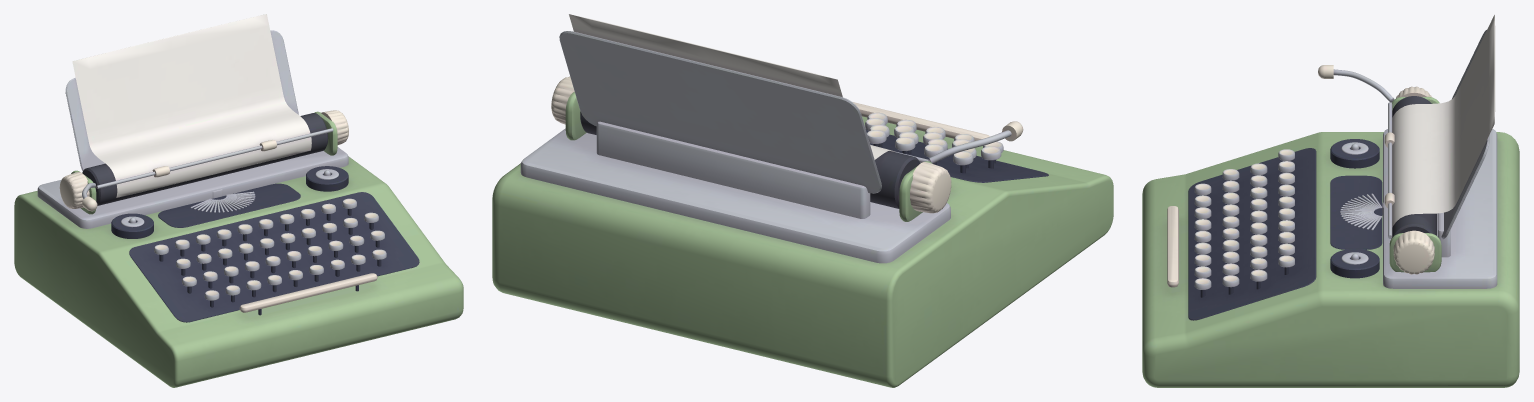
File: typewriter.glb
3 renders of one model, left to right at view 1: azimuth 30°, elevation 25°; view 2: azimuth 150°, elevation 25°; view 3: azimuth 270°, elevation 25°, orthographic. The views are drawn at different scales.
Parts seen in each view (by area): view 1: typewriter_body; view 2: typewriter_body; view 3: typewriter_body.
Boxes of the visible parts, bbox=[...] form: typewriter_body: bbox=[14, 14, 463, 387]; typewriter_body: bbox=[492, 14, 1113, 387]; typewriter_body: bbox=[1142, 15, 1519, 387].
Bounding box in the file's own units: 0.3115 × 0.2086 × 0.29.
Materials: 1 (1 with a texture image).
